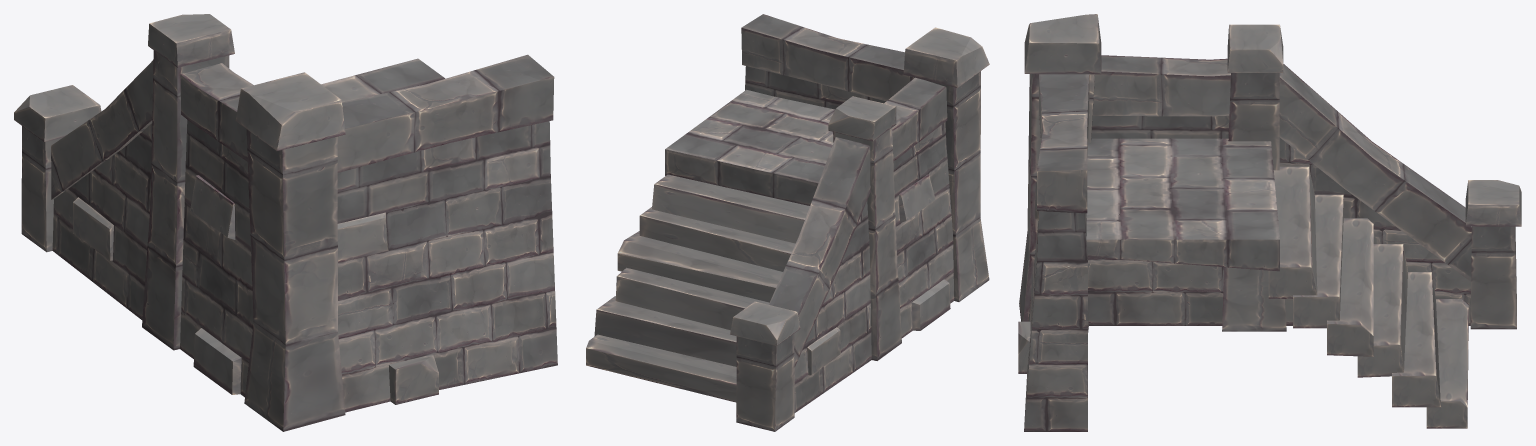
File: SM_BLD_stairs_v04_v2.fbx
3 renders of one model, left to right at view 1: azimuth 30°, elevation 25°; view 2: azimuth 150°, elevation 25°; view 3: azimuth 270°, elevation 25°, orthographic. The views are drawn at different scales.
Parts seen in each view (by area): view 1: SM_BLD_stairs_v04_v2; view 2: SM_BLD_stairs_v04_v2; view 3: SM_BLD_stairs_v04_v2.
Part boxes in pixels (left/top/right/bottom): SM_BLD_stairs_v04_v2: left=14, top=14, right=557, bottom=431; SM_BLD_stairs_v04_v2: left=586, top=14, right=989, bottom=431; SM_BLD_stairs_v04_v2: left=1018, top=14, right=1521, bottom=431.
Size of the model in its own units: 312 by 326 by 508.
